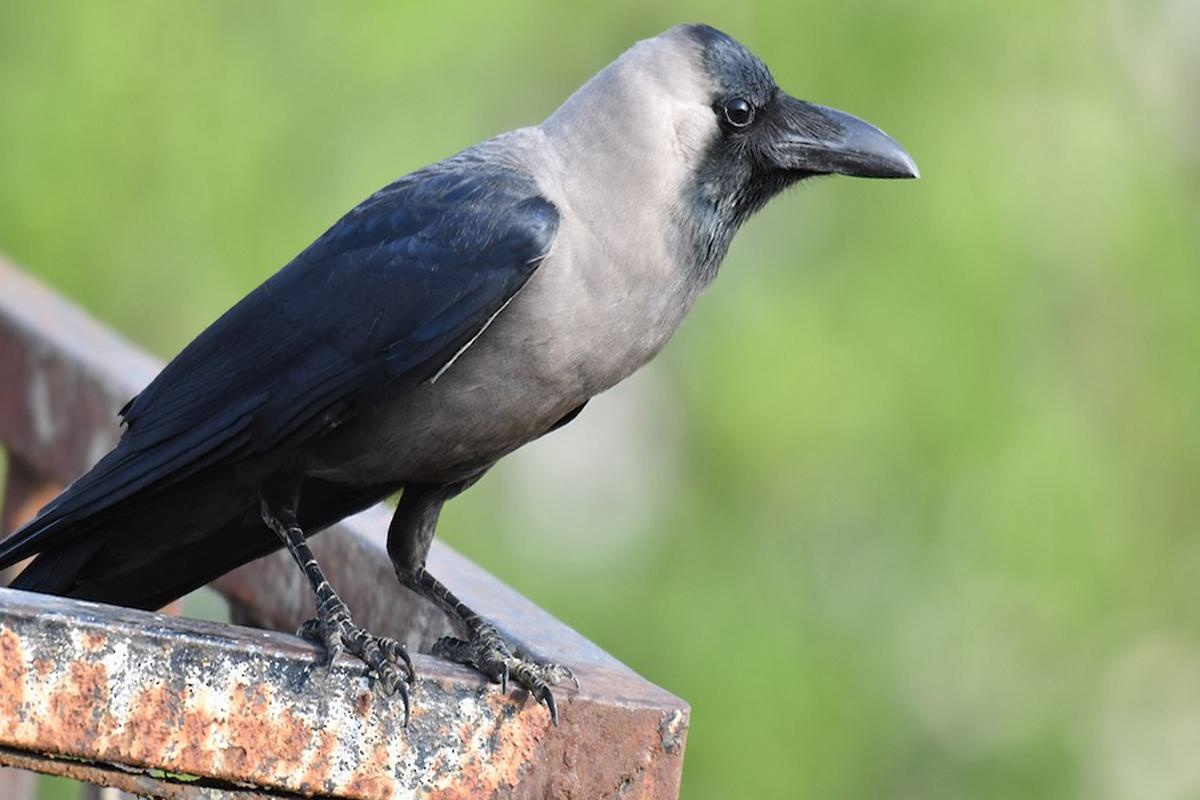crow: (1, 17, 927, 728)
